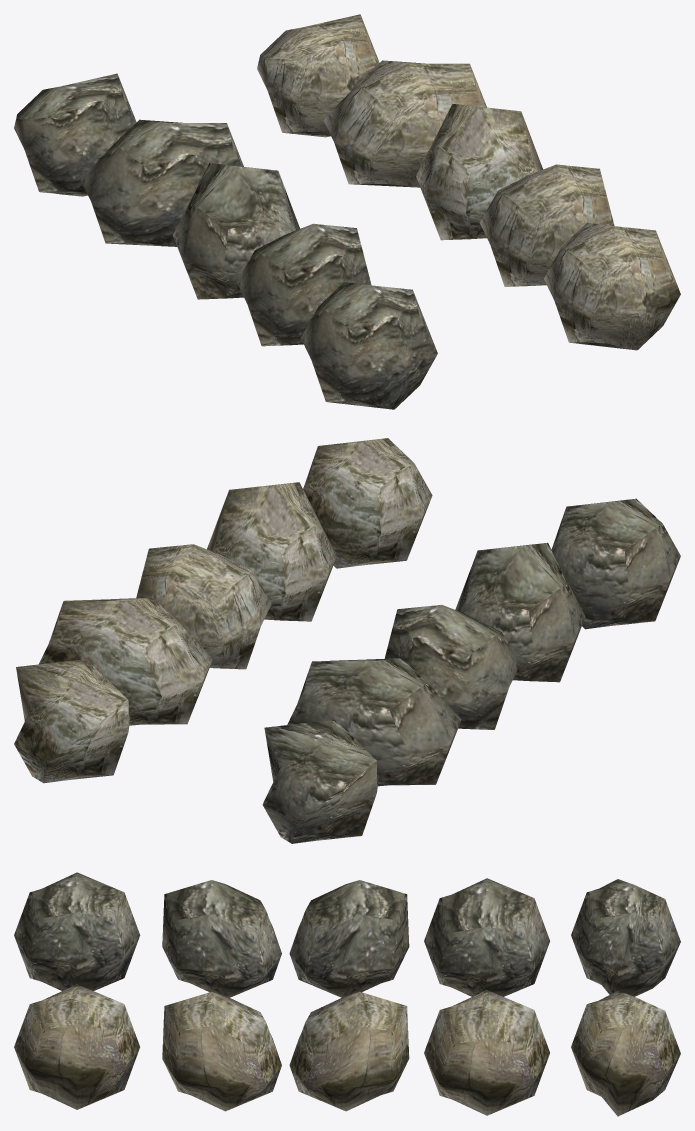
The model's file is rockdone.fbx.
The picture shows the model from 3 angles, top to bottom: view 1: azimuth 30°, elevation 25°; view 2: azimuth 150°, elevation 25°; view 3: azimuth 270°, elevation 25°; orthographic projection. The views are drawn at different scales.
Parts seen in each view (by area): view 1: pCube9, pCube1, pCube8, pCube4, pCube3, pCube7, pCube6, pCube2, pCube10, pCube5; view 2: pCube8, pCube4, pCube9, pCube1, pCube10, pCube5, pCube6, pCube2, pCube3, pCube7; view 3: pCube9, pCube8, pCube1, pCube4, pCube7, pCube6, pCube3, pCube2, pCube10, pCube5.
Boxes of the visible parts, box(x1,y1,x2,y2) form: pCube9: box(544, 222, 680, 350); pCube1: box(301, 282, 437, 409); pCube8: box(323, 60, 486, 187); pCube4: box(80, 119, 243, 246); pCube3: box(173, 163, 299, 299); pCube7: box(416, 104, 542, 240); pCube6: box(480, 164, 614, 286); pCube2: box(237, 223, 371, 346); pCube10: box(257, 14, 379, 137); pCube5: box(14, 73, 136, 196); pCube8: box(39, 597, 212, 725); pCube4: box(287, 658, 461, 786); pCube9: box(303, 438, 432, 568); pCube1: box(551, 498, 680, 629); pCube10: box(14, 659, 130, 783); pCube5: box(262, 719, 378, 843); pCube6: box(207, 482, 336, 621); pCube2: box(455, 542, 585, 682); pCube3: box(384, 604, 519, 729); pCube7: box(136, 544, 271, 669); pCube9: box(14, 984, 139, 1109); pCube8: box(424, 990, 549, 1115); pCube1: box(14, 872, 140, 990); pCube4: box(424, 878, 549, 996); pCube7: box(289, 991, 409, 1111); pCube6: box(162, 991, 281, 1111); pCube3: box(289, 880, 409, 997); pCube2: box(162, 880, 281, 997); pCube10: box(571, 991, 680, 1116); pCube5: box(571, 879, 680, 996).
Bounding box in the file's own units: 3.39 × 1.05 × 5.28.
2 materials, 2 textured.
